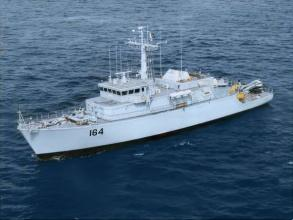warship: (15, 17, 274, 162)
